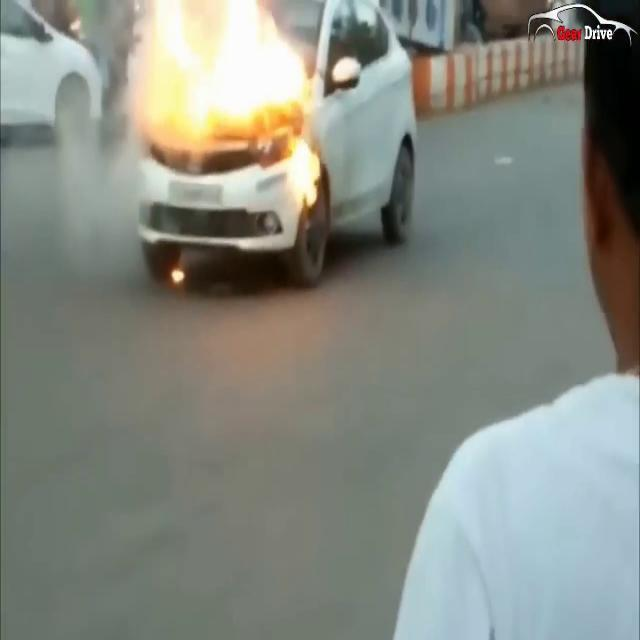Fire: (141, 0, 319, 140), (285, 126, 323, 211)
Smoke: (48, 83, 162, 284)
